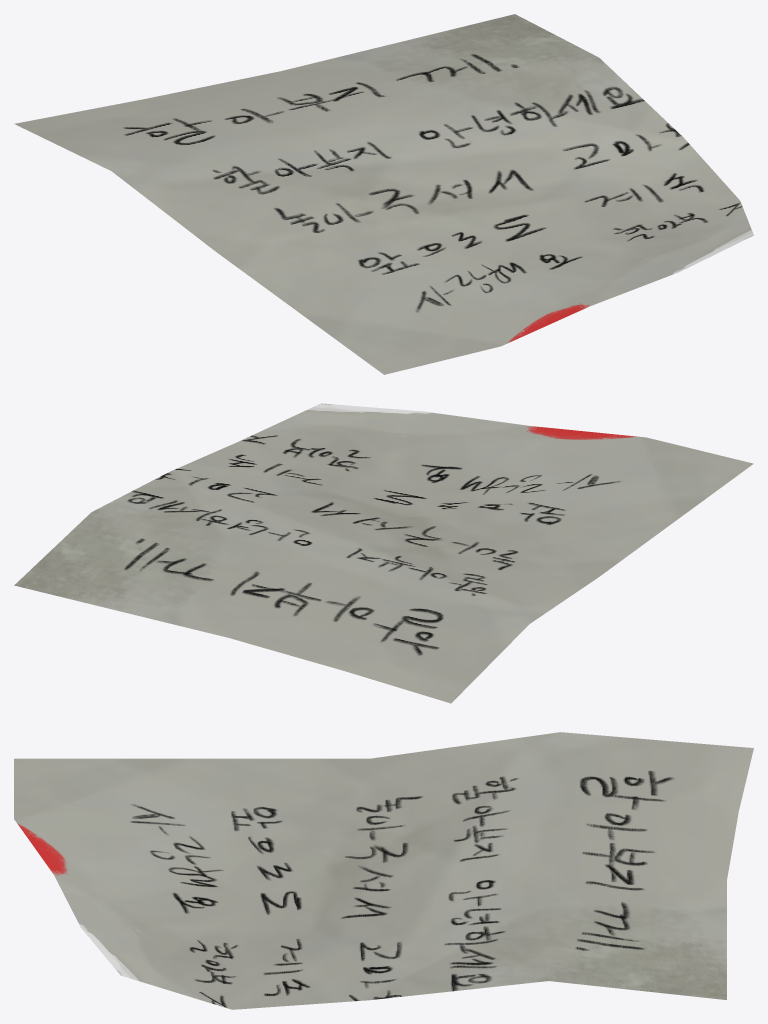
3 views of the same model, one above another, from view 1: azimuth 30°, elevation 25°; view 2: azimuth 150°, elevation 25°; view 3: azimuth 270°, elevation 25° (orthographic). The views are drawn at different scales.
Visible parts, largest first — view 1: 편지1; view 2: 편지1; view 3: 편지1.
Boxes of the visible parts, box(x1,y1,x2,y2) form: 편지1: box(14, 14, 753, 374); 편지1: box(14, 403, 753, 703); 편지1: box(14, 732, 753, 1009).
Bounding box in the file's own units: 65.66 × 81.46 × 4.04.
Materials: 1 (1 with a texture image).
